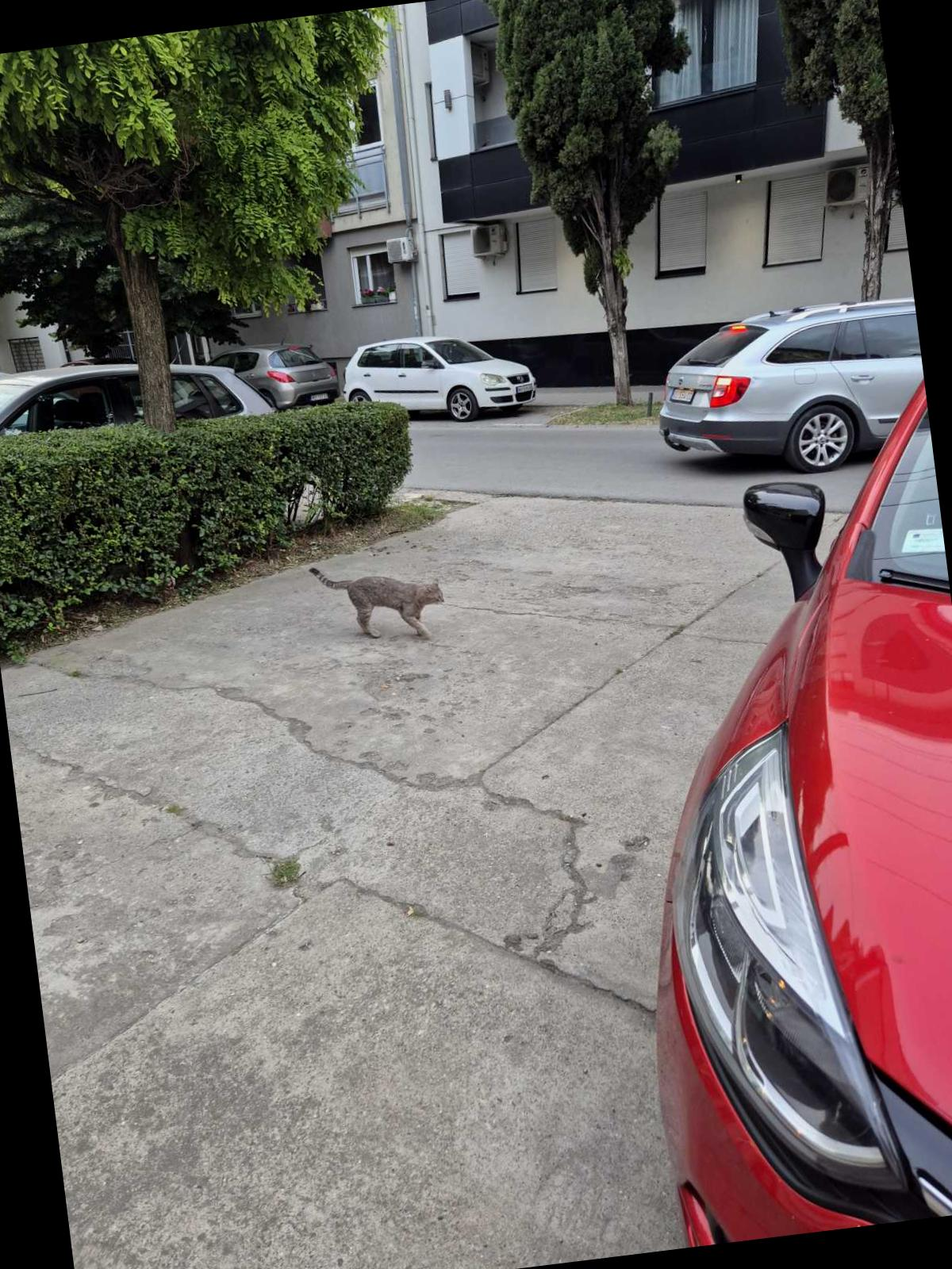macka: (308, 551, 450, 654)
